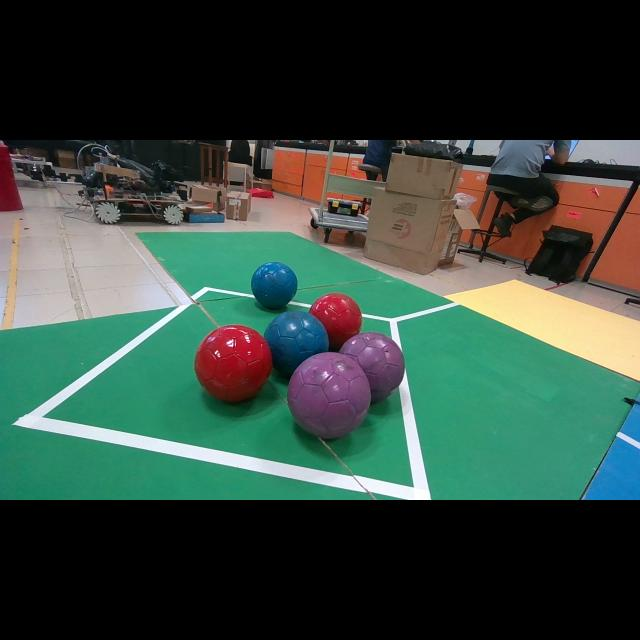B: (264, 310, 329, 376), (251, 262, 298, 308)
P: (288, 352, 371, 439), (340, 332, 405, 402)
R: (195, 325, 272, 401), (309, 292, 362, 351)
